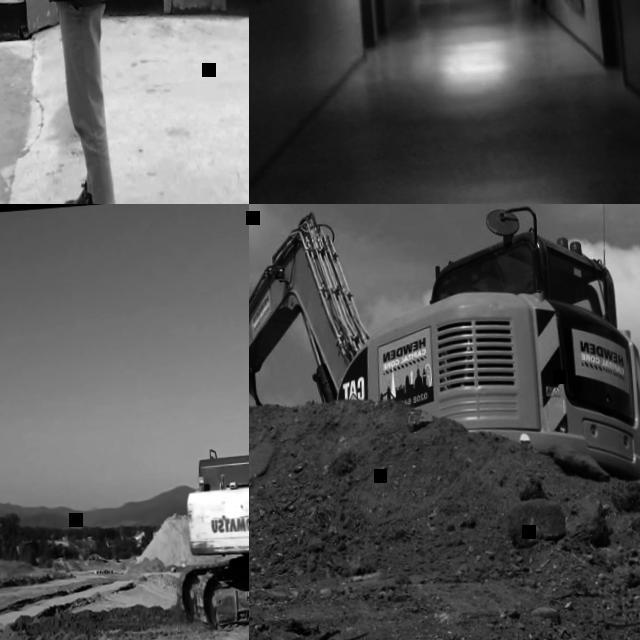machinery: (249, 204, 640, 526), (157, 338, 249, 635)
person: (20, 0, 141, 204)
